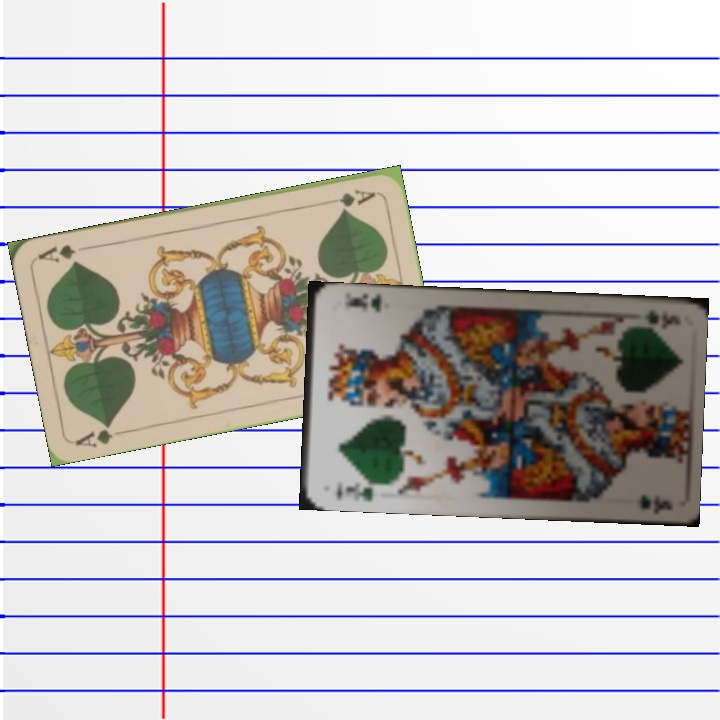GA: (72, 419, 130, 450), (320, 184, 378, 209)
GK: (333, 476, 384, 504), (640, 306, 681, 330)
